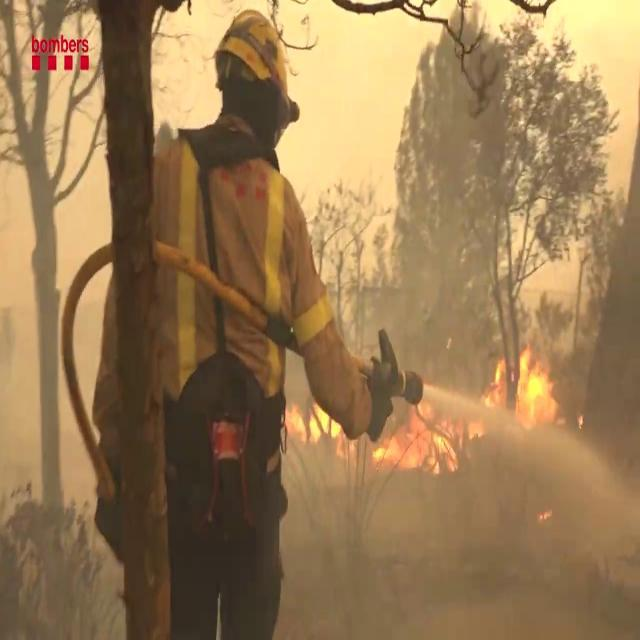Fire: (382, 370, 495, 466), (494, 332, 558, 442)
